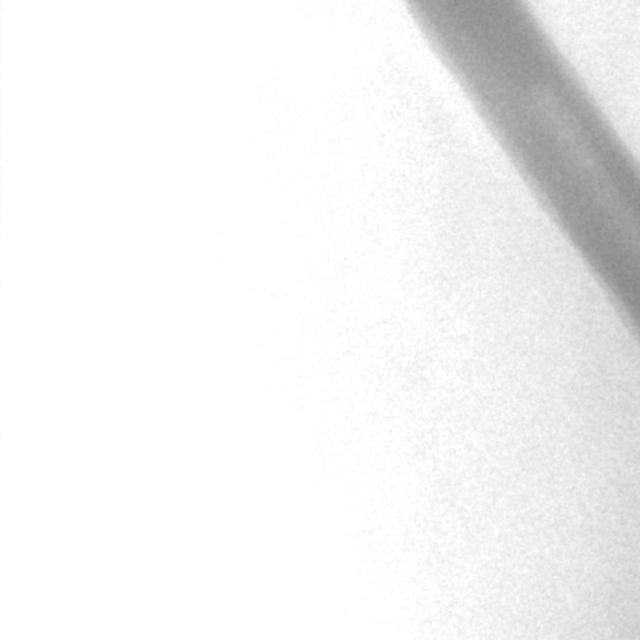air hole: (582, 153, 594, 169)
